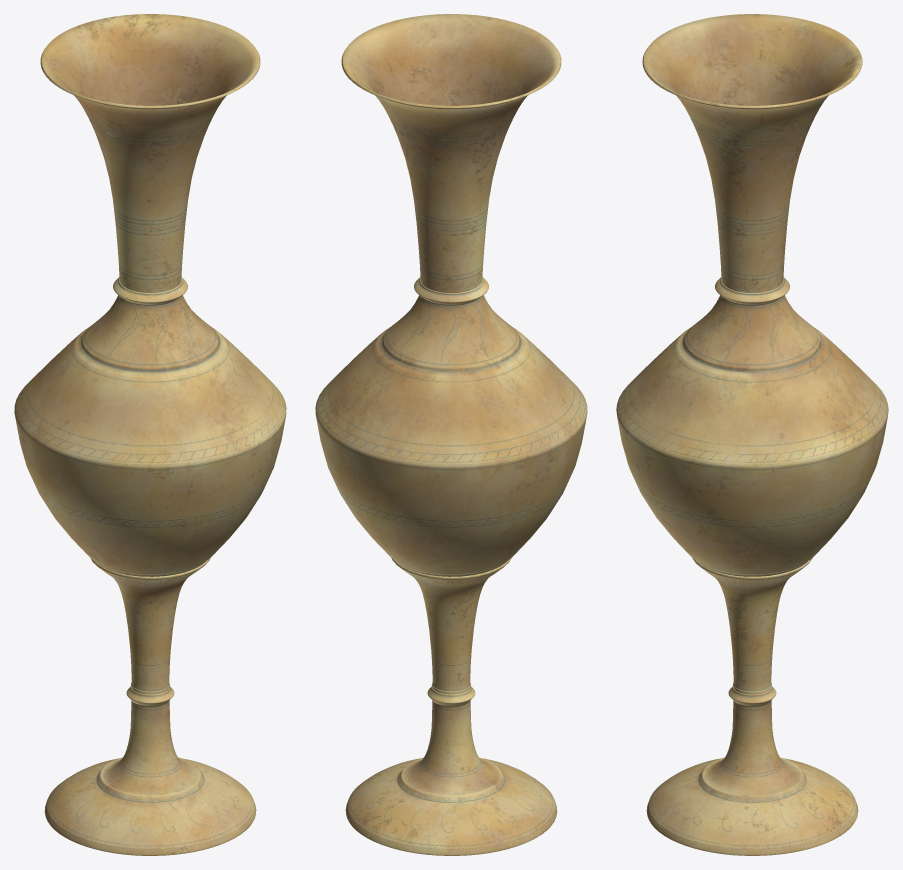
The model's file is brass_vase_01.glb.
3 views of the same model, side by side, from view 1: azimuth 30°, elevation 25°; view 2: azimuth 150°, elevation 25°; view 3: azimuth 270°, elevation 25° (orthographic).
Visible parts, largest first — view 1: brass_vase_01; view 2: brass_vase_01; view 3: brass_vase_01.
Part boxes in pixels (x1=…): brass_vase_01: x1=14, y1=14, x2=286, y2=855; brass_vase_01: x1=315, y1=14, x2=587, y2=855; brass_vase_01: x1=616, y1=14, x2=888, y2=855.
Bounding box in the file's own units: 0.2273 × 0.6925 × 0.2273.
1 material, 1 textured.
